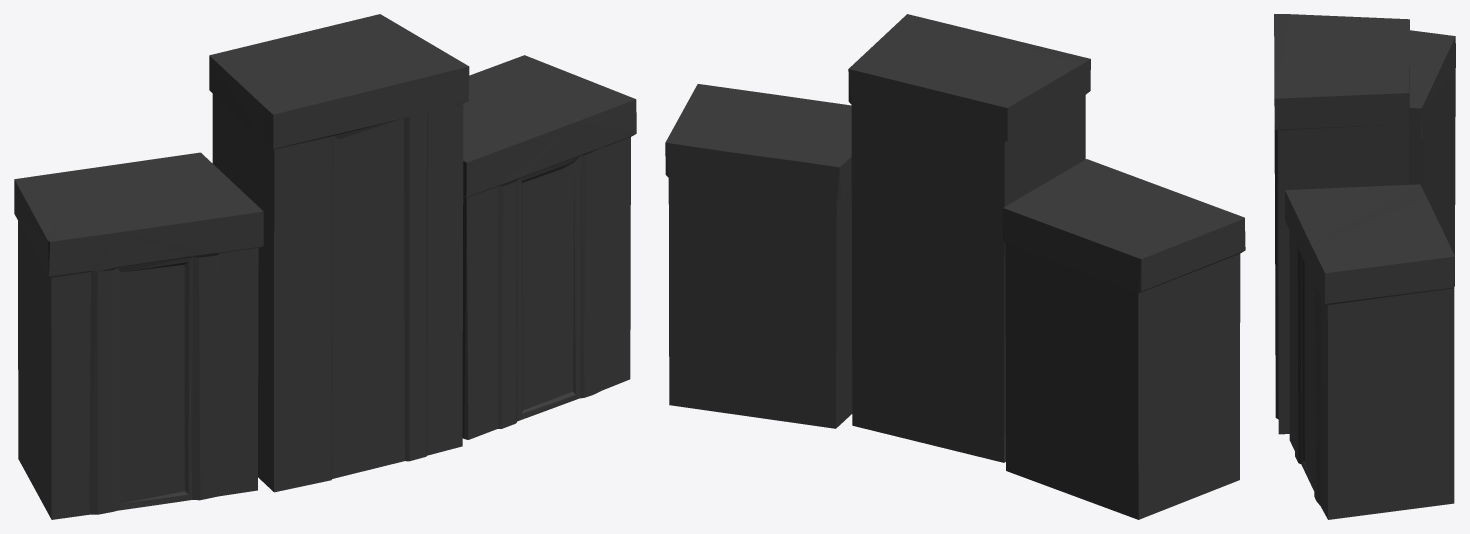
File: DataCenter.glb
3 renders of one model, left to right at view 1: azimuth 30°, elevation 25°; view 2: azimuth 150°, elevation 25°; view 3: azimuth 270°, elevation 25°, orthographic. The views are drawn at different scales.
Visible parts, largest first — view 1: Cube.001; view 2: Cube.001; view 3: Cube.001.
Boxes of the visible parts, box(x1,y1,x2,y2) form: Cube.001: box(14, 14, 636, 519); Cube.001: box(665, 14, 1245, 519); Cube.001: box(1274, 14, 1455, 519).
Bounding box in the file's own units: 9.09 × 5.65 × 2.75.
1 material, 1 textured.
